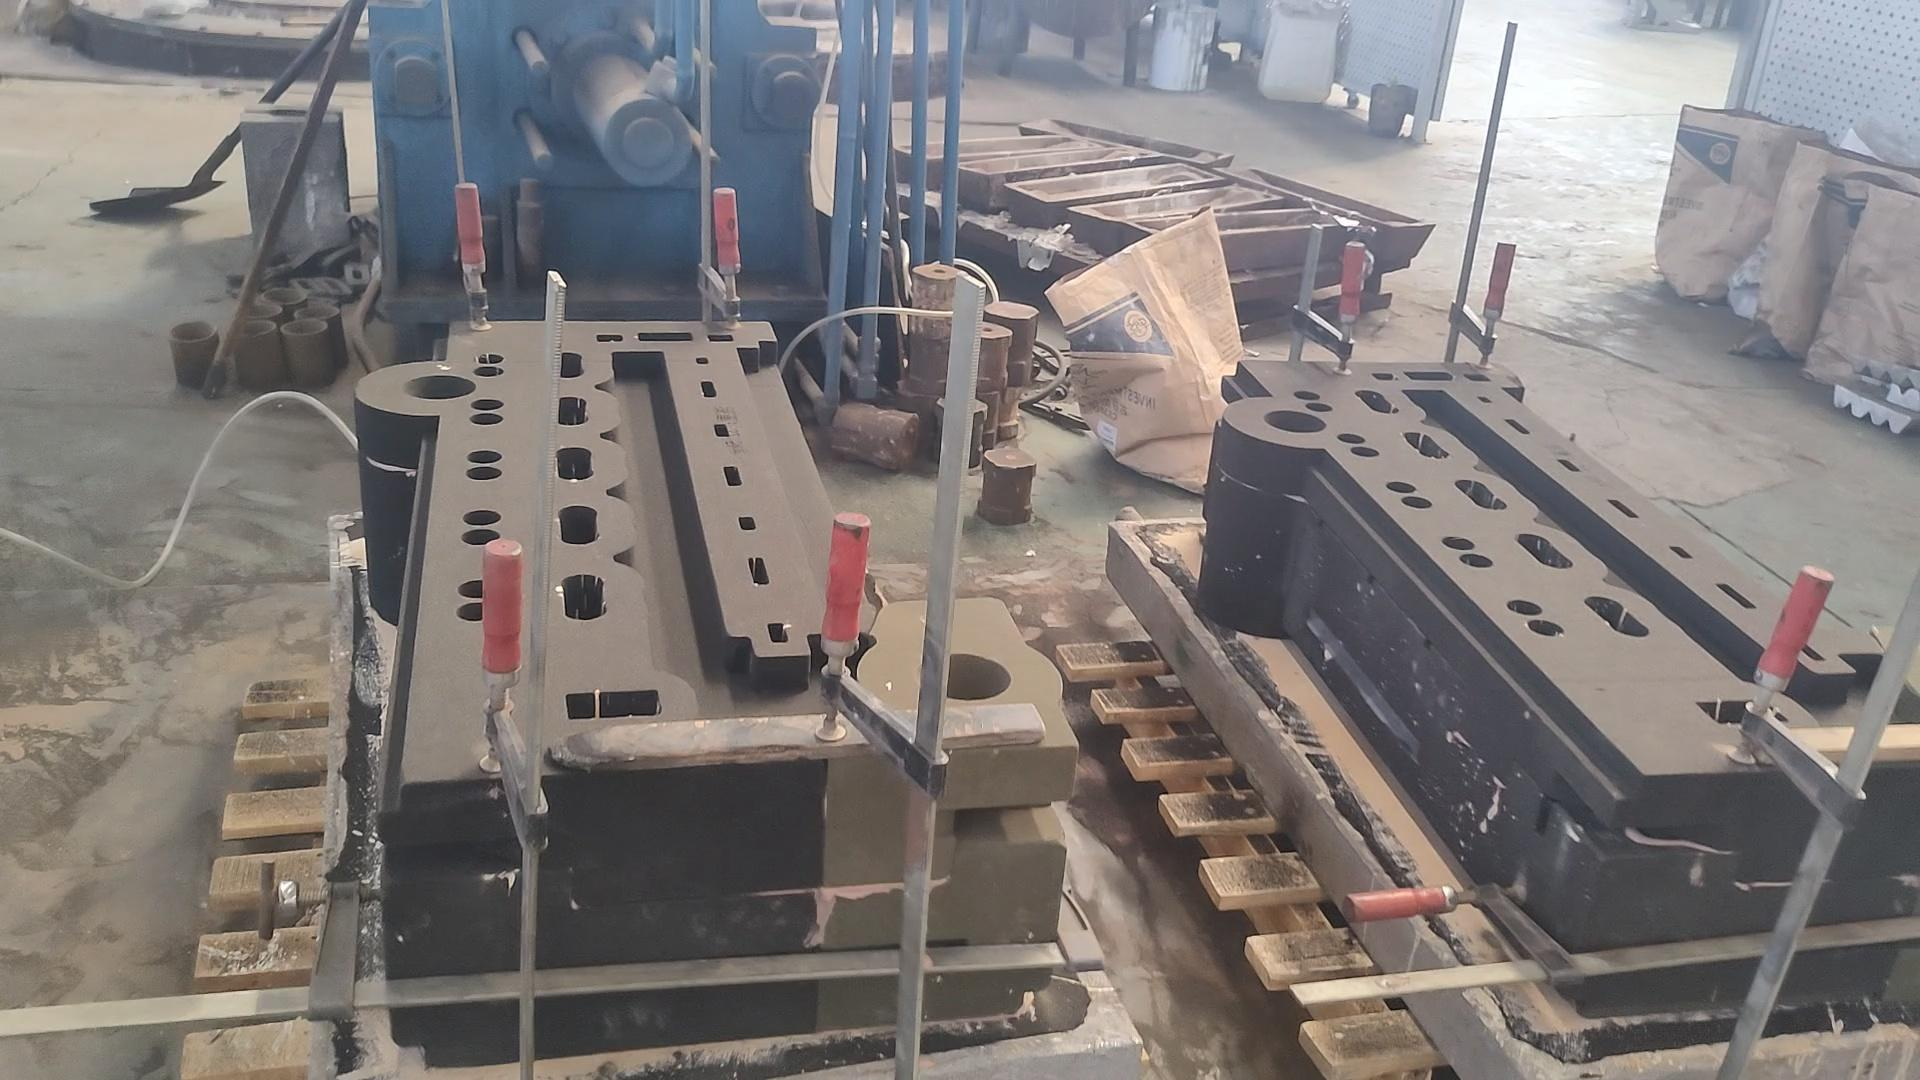pouring hole: (913, 651, 1013, 702), (400, 372, 479, 400), (1262, 407, 1329, 435), (167, 320, 218, 342), (277, 318, 328, 336), (225, 320, 276, 336), (235, 301, 281, 318), (289, 303, 339, 318), (262, 287, 305, 305)
